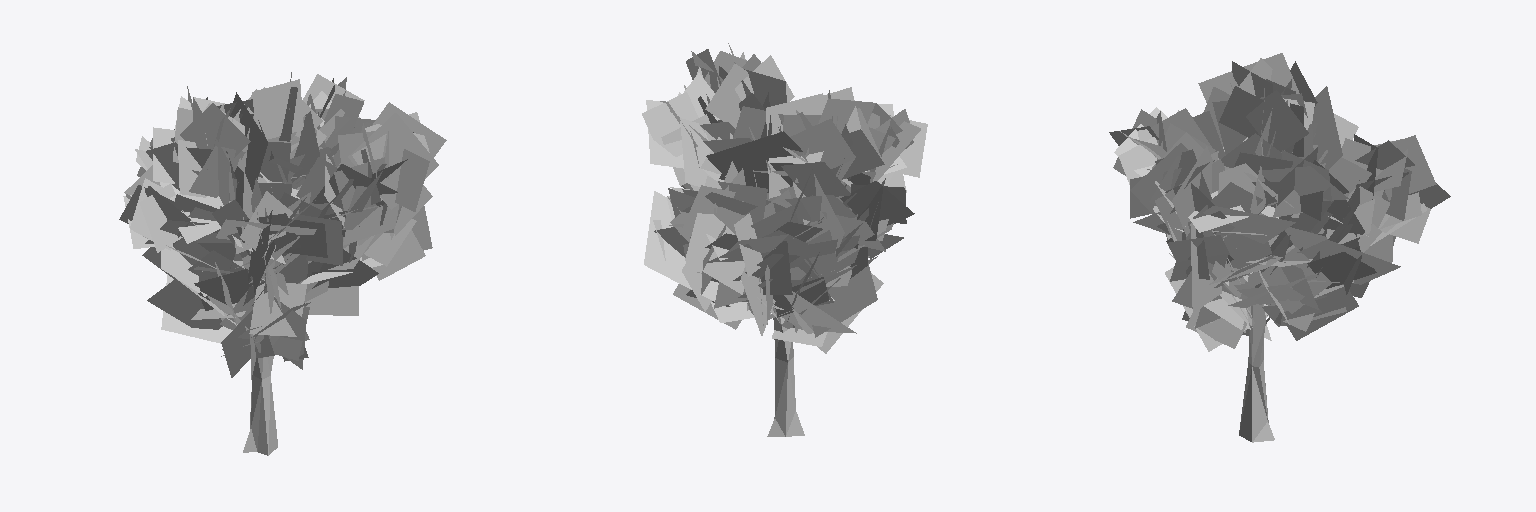
Rendered from tree_01_a_lod1.obj.
3 renders of one model, left to right at view 1: azimuth 30°, elevation 25°; view 2: azimuth 150°, elevation 25°; view 3: azimuth 270°, elevation 25°, orthographic.
Parts seen in each view (by area): view 1: tree_01_a_lod1; view 2: tree_01_a_lod1; view 3: tree_01_a_lod1.
Part boxes in pixels (bbox=[...]): tree_01_a_lod1: bbox=[119, 72, 446, 455]; tree_01_a_lod1: bbox=[642, 43, 927, 436]; tree_01_a_lod1: bbox=[1109, 53, 1450, 442].
Size of the model in its own units: 295 by 377 by 320.